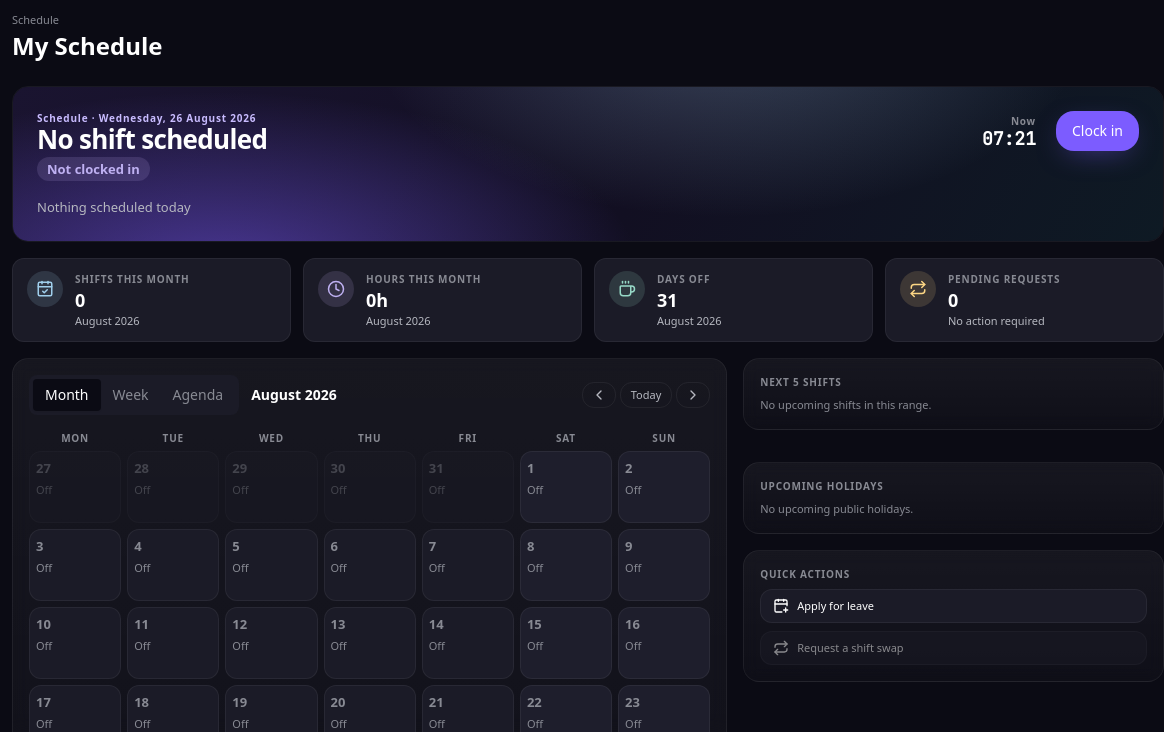
Test: MySchedulePage › does not let a slow, superseded range response overwrite a newer one after rapid nav clicks
Click the button named "next month" at [693, 395], box top-left (676, 382), bottom-right (710, 408)
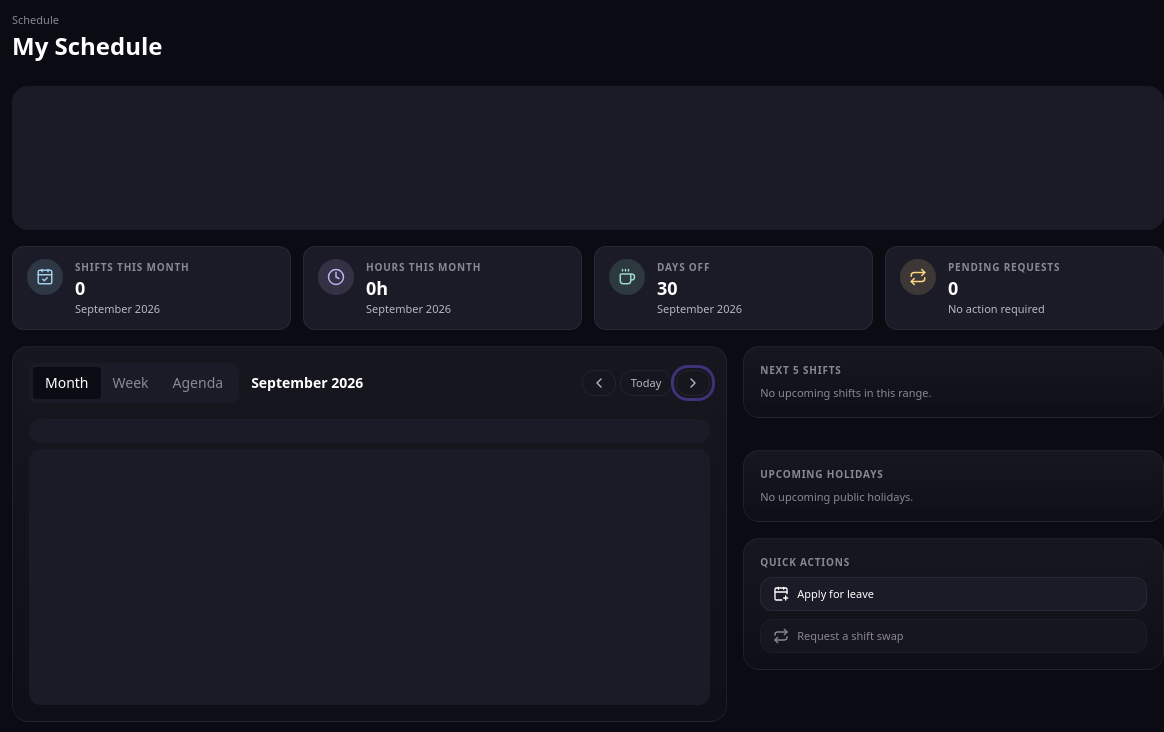
Click the button named "next month" at [693, 383], box top-left (676, 370), bottom-right (710, 396)
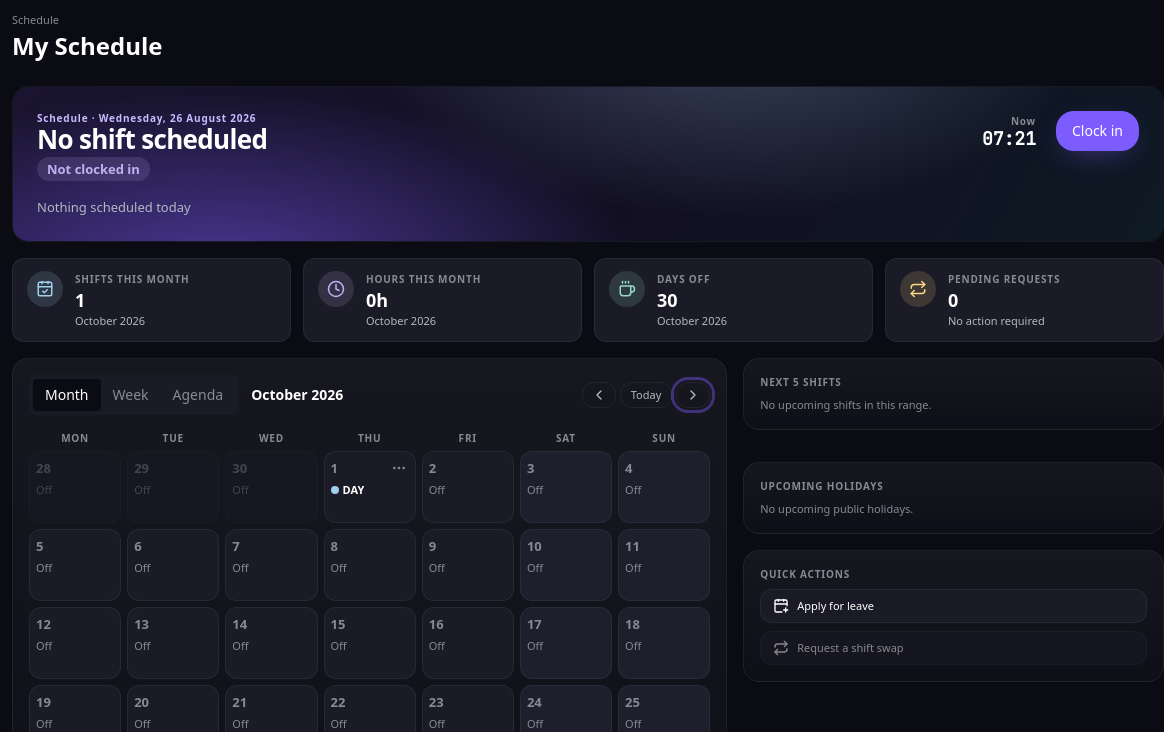
Expected: the element with test id "kpi-shifts" shows "1", top-left (75, 288), bottom-right (85, 312)
